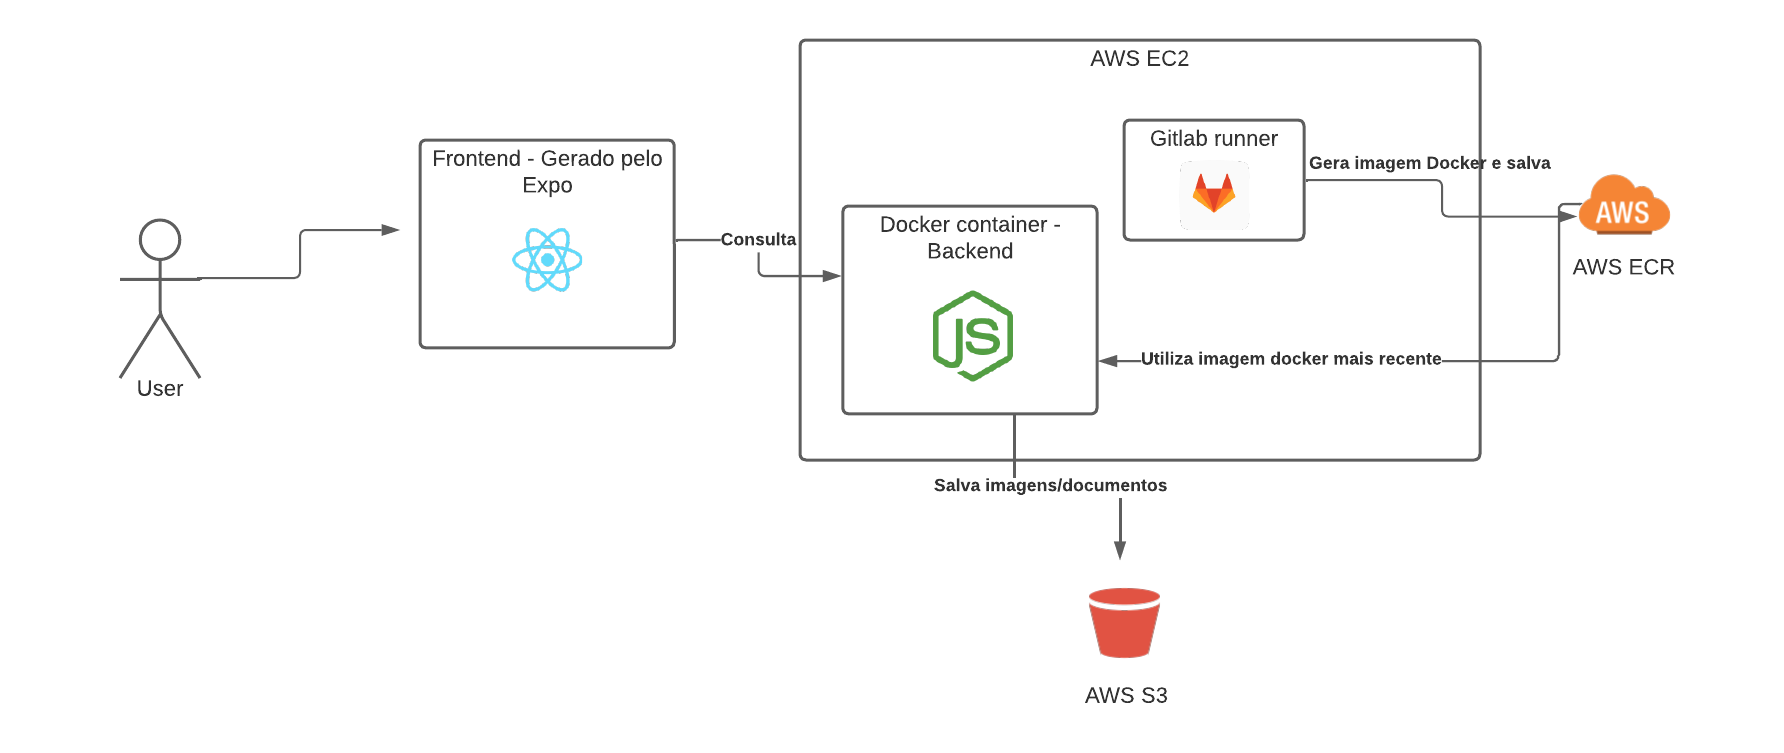API: (844, 206, 1099, 414)
Aplicação: (365, 109, 711, 372), (1539, 140, 1713, 325), (1124, 123, 1304, 240)
Banco de Dados: (1010, 557, 1244, 729)
Usuarios: (69, 181, 247, 433)
